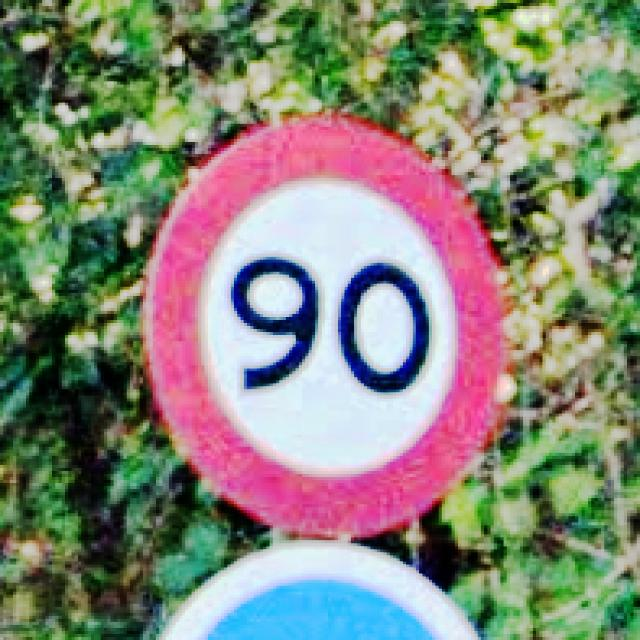max90: (140, 109, 513, 537)
